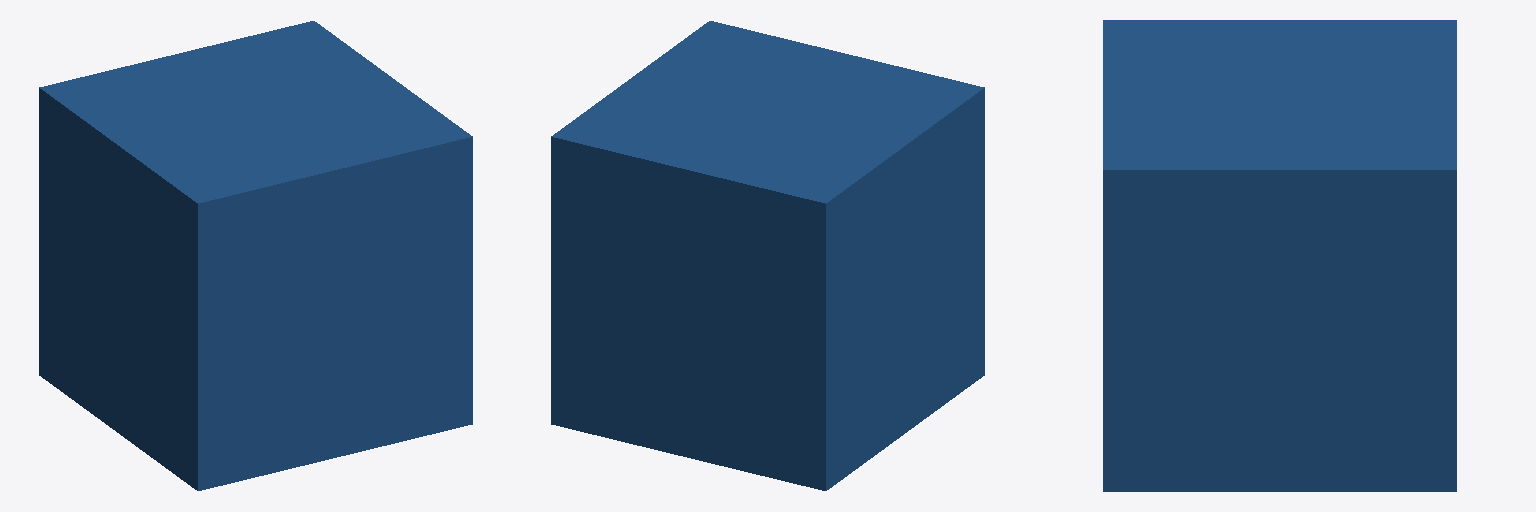
robot.urdf — paint_restore_fixture:
<?xml version="1.0"?>
<robot name="paint_restore_fixture">
  <material name="paint_restore_base">
    <color rgba="0.2 0.4 0.6 0.75"/>
  </material>
  <link name="base_link">
    <visual>
      <geometry>
        <box size="1 1 1"/>
      </geometry>
      <material name="paint_restore_base"/>
    </visual>
    <collision>
      <geometry>
        <box size="1 1 1"/>
      </geometry>
    </collision>
    <inertial>
      <mass value="1"/>
      <inertia ixx="0.1666667" ixy="0" ixz="0" iyy="0.1666667" iyz="0" izz="0.1666667"/>
    </inertial>
  </link>
</robot>

--- Facts derived from the render (not from the file) ---
The picture shows the robot from 3 angles, left to right: view 1: azimuth 30°, elevation 25°; view 2: azimuth 150°, elevation 25°; view 3: azimuth 270°, elevation 25°; orthographic projection.
Robot: paint_restore_fixture — 1 links, 0 joints (none); root link base_link; default pose: all joints at 0.
Links seen in each view (by area): view 1: base_link; view 2: base_link; view 3: base_link.
Boxes of the visible links, box(x1,y1,x2,y2) form: base_link: box(39, 21, 472, 490); base_link: box(551, 21, 984, 490); base_link: box(1103, 20, 1456, 491).
Bounding box of the posed robot: 1 × 1 × 1 m (x, y, z).
Geometry: primitives only (box / cylinder / sphere), no mesh files.
